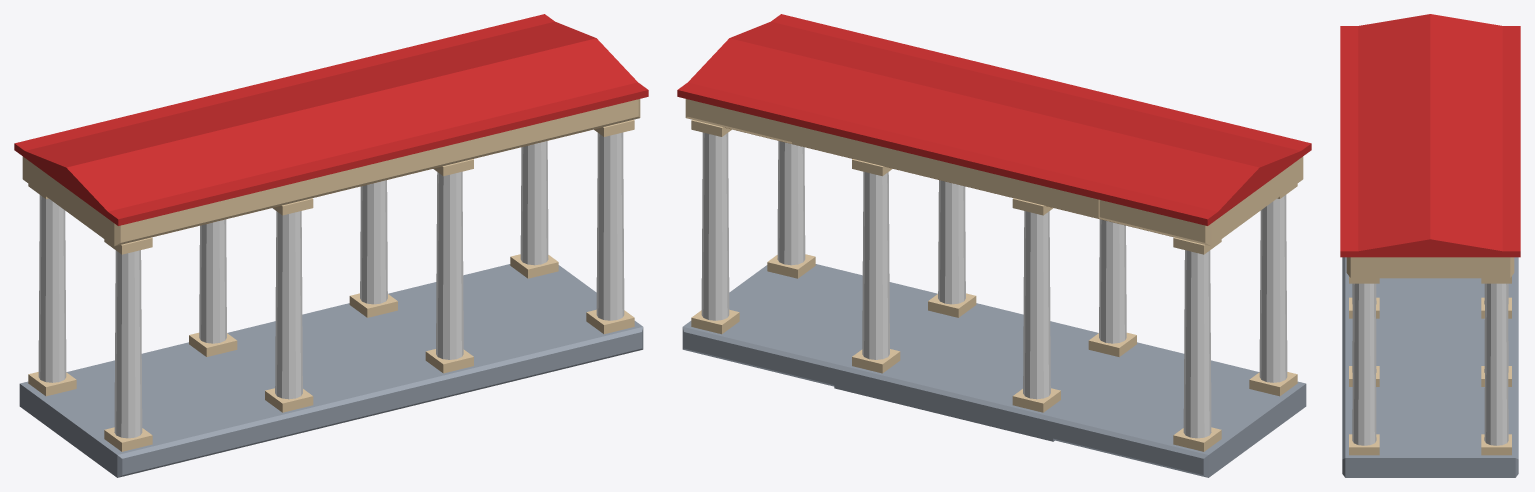
File: HALL_OF_RECORDS.glb
3 renders of one model, left to right at view 1: azimuth 30°, elevation 25°; view 2: azimuth 150°, elevation 25°; view 3: azimuth 270°, elevation 25°, orthographic. The views are drawn at different scales.
Visible parts, largest first — view 1: PropRed, Stone, PropWhite, PropCream; view 2: PropRed, Stone, PropWhite, PropCream, SignFace; view 3: PropRed, Stone, PropWhite, PropCream.
Part boxes in pixels (x1,y1,x2,y2): PropRed: (14, 14, 648, 225); Stone: (19, 264, 643, 477); PropWhite: (38, 132, 624, 438); PropCream: (22, 99, 640, 451); PropRed: (677, 14, 1311, 225); Stone: (682, 264, 1306, 477); PropWhite: (701, 132, 1287, 438); PropCream: (685, 99, 1303, 451); SignFace: (792, 125, 1099, 218); PropRed: (1340, 14, 1520, 257); Stone: (1342, 257, 1518, 477); PropWhite: (1352, 283, 1508, 445); PropCream: (1346, 257, 1514, 455).
Bounding box in the file's own units: 24.2 × 12 × 8.2.
